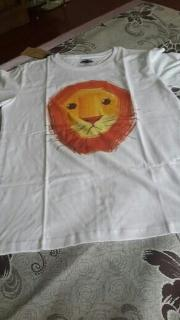short sleeve top: (0, 46, 180, 255)
